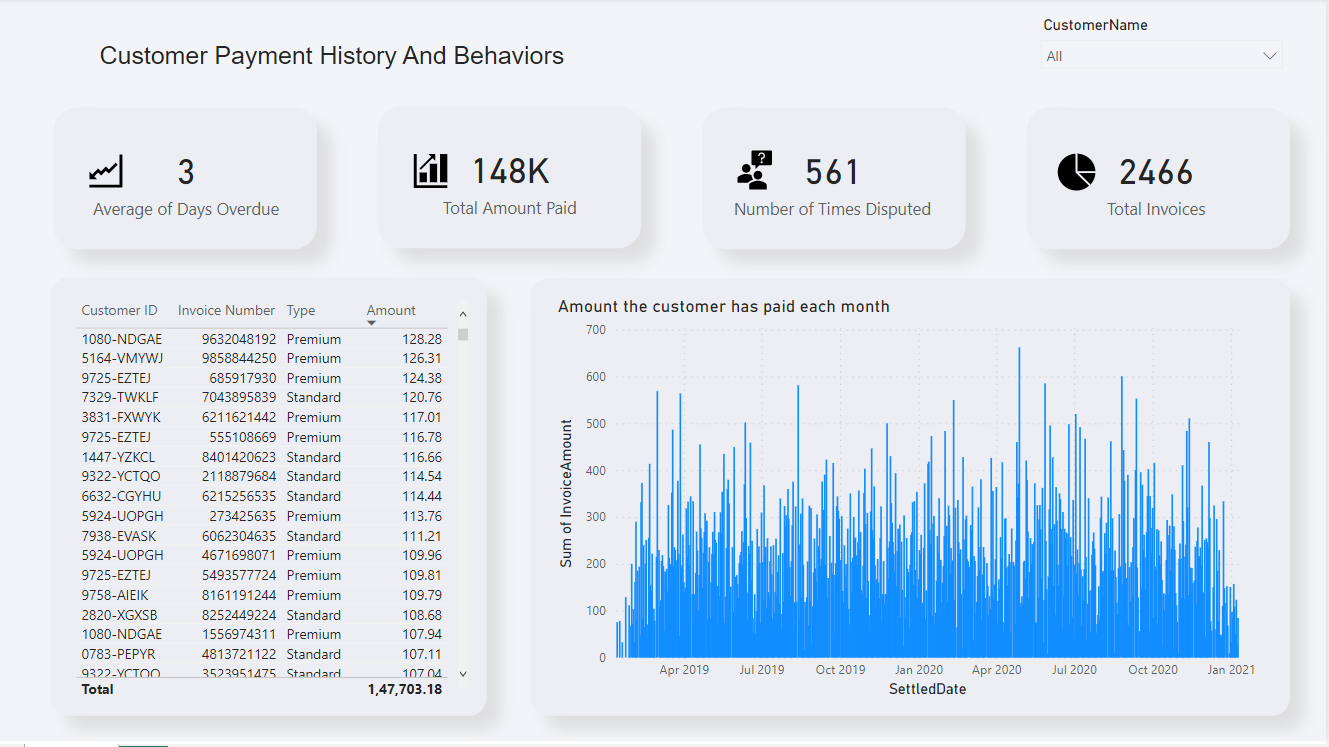

The page's visual inventory and layout, read from the dashboard file:
{"tool":"powerbi","page":{"name":"DA","canvas":[1280,720],"ordinal":0},"visuals":[{"type":"clusteredColumnChart","title":"Amount the customer has paid each month","fields":{"Category":["Accounts Payments.SettledDate"],"Y":["Sum(Accounts Payments.InvoiceAmount)"]},"box":[533.1,287,692.3,393.2],"z":0},{"type":"slicer","fields":{"Values":["Customers MyPaper.CustomerName"]},"box":[993.5,12.3,253.9,75.5],"z":1000},{"type":"card","fields":{"Values":["Avg(Accounts Payments.Days Overdue)"]},"box":[69,116.9,221.9,117],"z":2000},{"type":"card","fields":{"Values":["Sum(Accounts Payments.InvoiceAmount)"]},"box":[380.8,116.9,222,116],"z":3000},{"type":"tableEx","fields":{"Values":["Customers MyPaper.CustomerID","Accounts Payments.invoiceNumber","Customers MyPaper.Customer Type","Sum(Accounts Payments.InvoiceAmount)"]},"box":[67.2,287.3,388.7,392.4],"z":4000},{"type":"card","fields":{"Values":["Sum(Accounts Payments.disputed no)"]},"box":[692.8,116.9,221.9,117],"z":5000},{"type":"card","fields":{"Values":["CountNonNull(Accounts Payments.invoiceNumber)"]},"box":[1004.6,116.9,221.9,117],"z":6000},{"type":"textbox","box":[56.7,19,527,68.7],"z":7000}]}

Visuals, with their boxes in screenshot pixels (x1, y1, x2, y2), scaled from the page's 1280x720 canvas onto the 1329x747 screenshot:
"Amount the customer has paid each month" clusteredColumnChart: x1=554, y1=298, x2=1272, y2=706
slicer - Customers MyPaper.CustomerName: x1=1032, y1=13, x2=1295, y2=91
card - Avg(Accounts Payments.Days Overdue): x1=72, y1=121, x2=302, y2=243
card - Sum(Accounts Payments.InvoiceAmount): x1=395, y1=121, x2=626, y2=242
tableEx - Customers MyPaper.CustomerID x Accounts Payments.invoiceNumber: x1=70, y1=298, x2=473, y2=705
card - Sum(Accounts Payments.disputed no): x1=719, y1=121, x2=950, y2=243
card - CountNonNull(Accounts Payments.invoiceNumber): x1=1043, y1=121, x2=1273, y2=243
textbox: x1=59, y1=20, x2=606, y2=91
